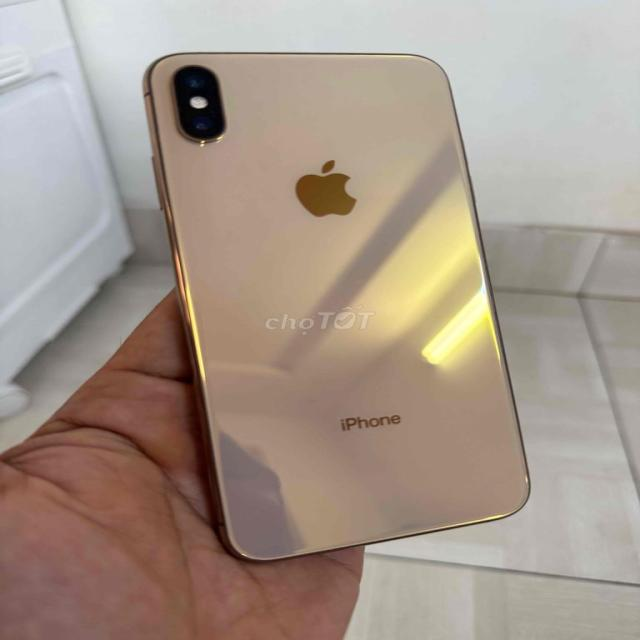gen_x_xs: (143, 52, 528, 562)
